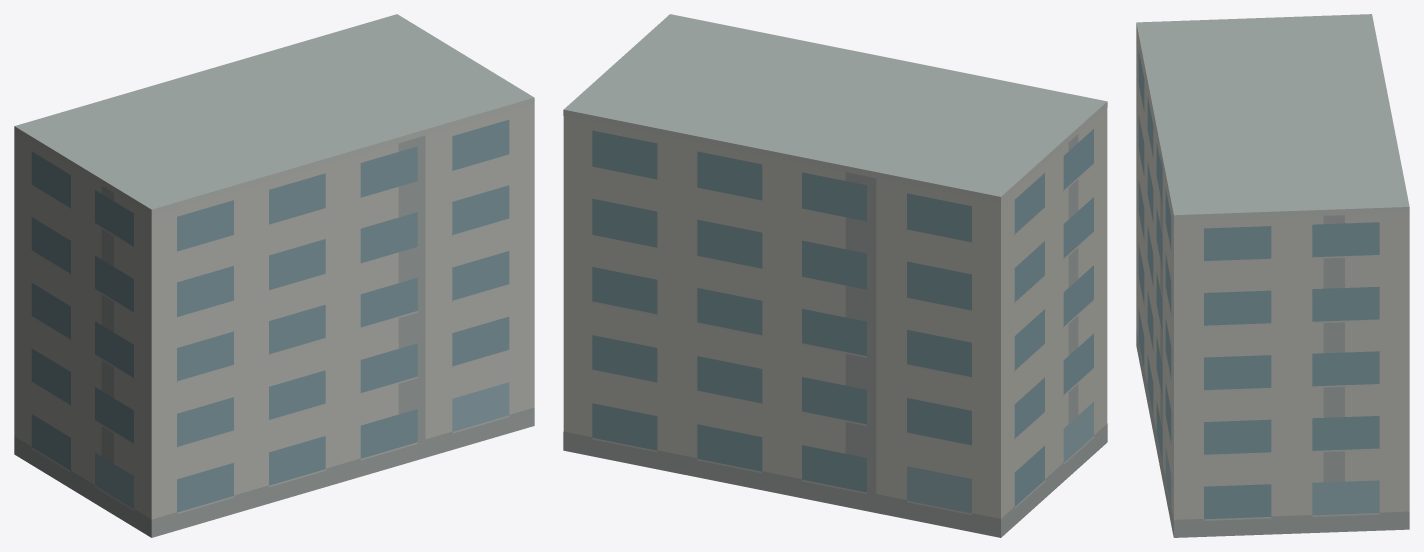
Rendered from survey-upis-32577938.glb.
The picture shows the model from 3 angles, left to right: view 1: azimuth 30°, elevation 25°; view 2: azimuth 150°, elevation 25°; view 3: azimuth 270°, elevation 25°; orthographic projection. The views are drawn at different scales.
Parts seen in each view (by area): view 1: survey-upis-32577938.tmp; view 2: survey-upis-32577938.tmp; view 3: survey-upis-32577938.tmp.
Boxes of the visible parts, x1,y1,x2,y2 form: survey-upis-32577938.tmp: (14,14,534,537); survey-upis-32577938.tmp: (563,14,1107,537); survey-upis-32577938.tmp: (1136,14,1409,537).
Size of the model in its own units: 17.73 by 13.25 by 10.18.
